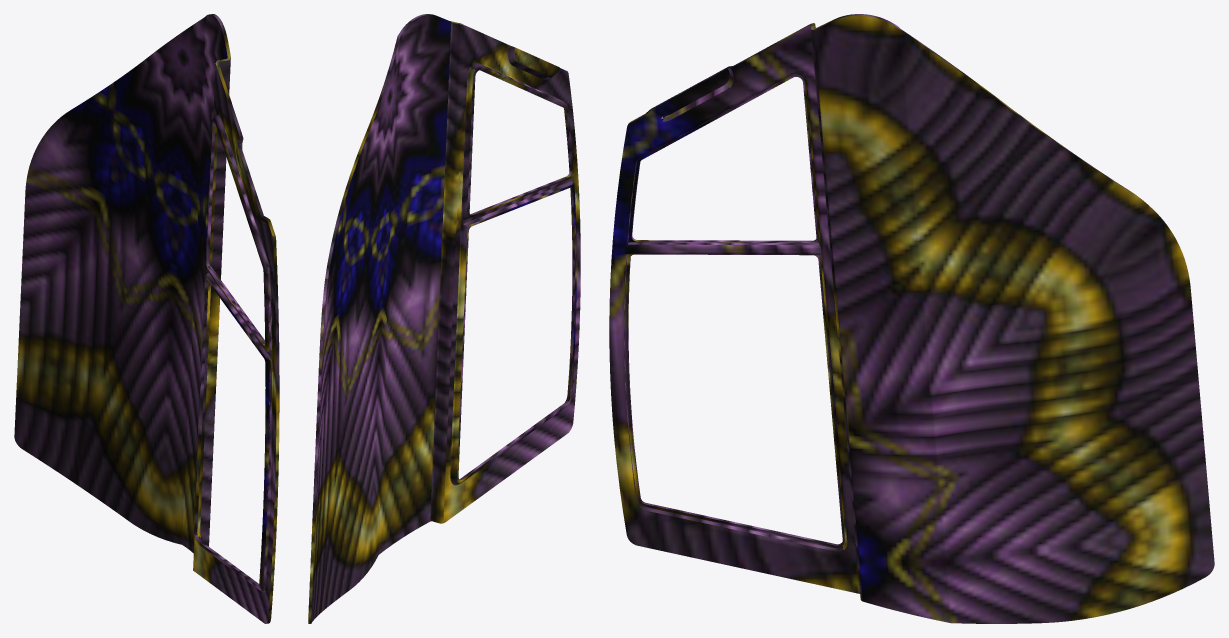
3 renders of one model, left to right at view 1: azimuth 30°, elevation 25°; view 2: azimuth 150°, elevation 25°; view 3: azimuth 270°, elevation 25°, orthographic. The views are drawn at different scales.
Parts seen in each view (by area): view 1: carDoor; view 2: carDoor; view 3: carDoor.
Boxes of the visible parts, x1,y1,x2,y2 form: carDoor: (14,14,279,623); carDoor: (308,14,580,623); carDoor: (609,14,1214,623).
Size of the model in its own units: 0.1279 by 1 by 0.8984.
Materials: 1 (1 with a texture image).
